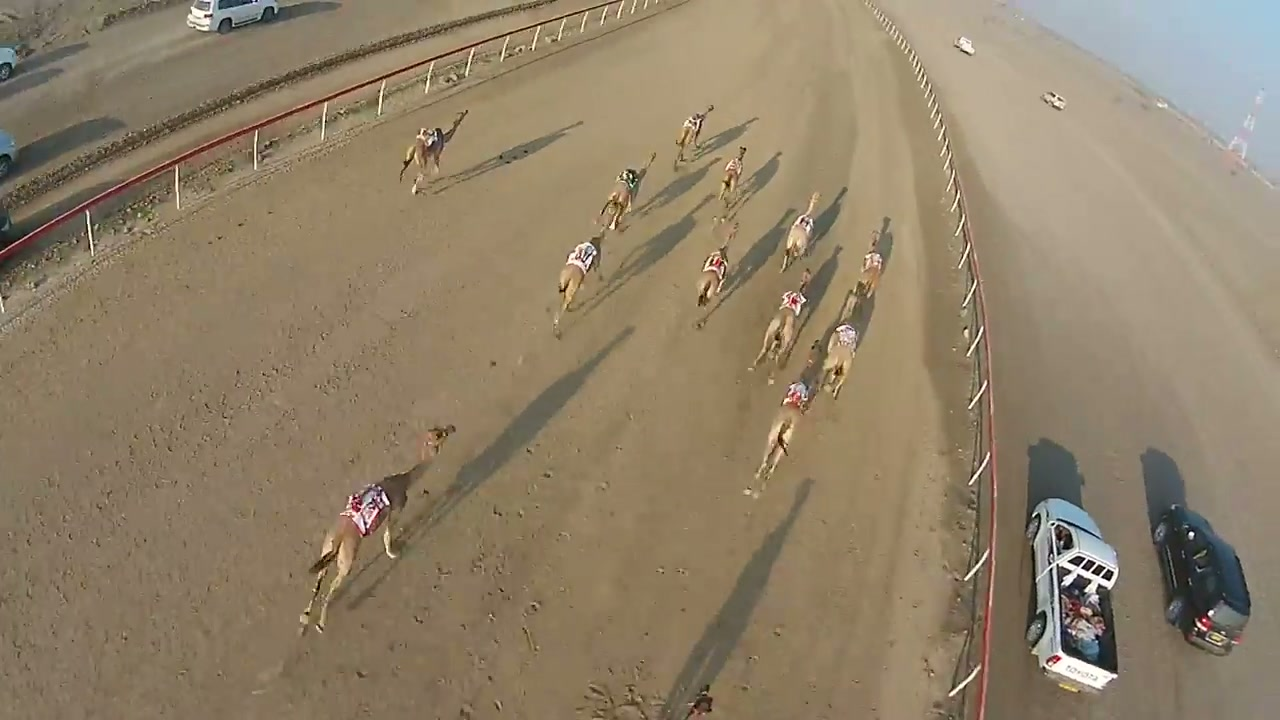animal_foot_print: (31, 264, 739, 719)
